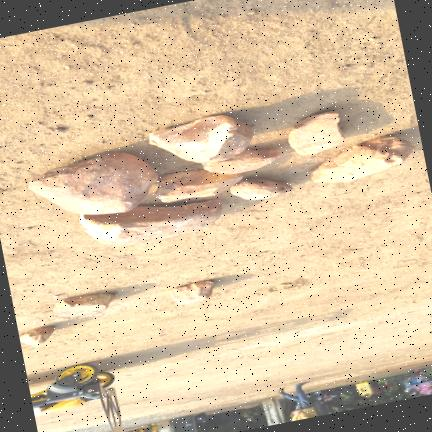Rocks: (29, 152, 156, 213), (79, 199, 221, 243), (148, 114, 252, 161), (309, 135, 413, 182), (155, 169, 241, 201), (288, 110, 345, 154), (203, 149, 280, 173), (53, 293, 114, 317), (229, 178, 291, 199), (169, 280, 213, 304), (19, 326, 53, 344)
